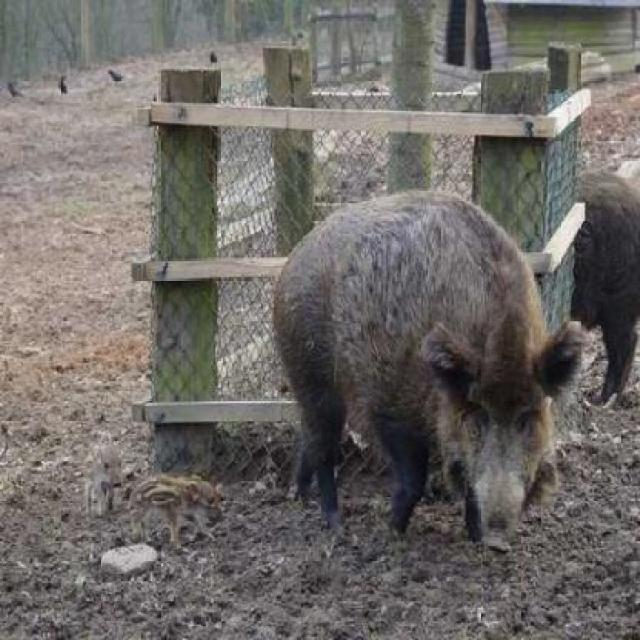Boar: (257, 190, 580, 565)
